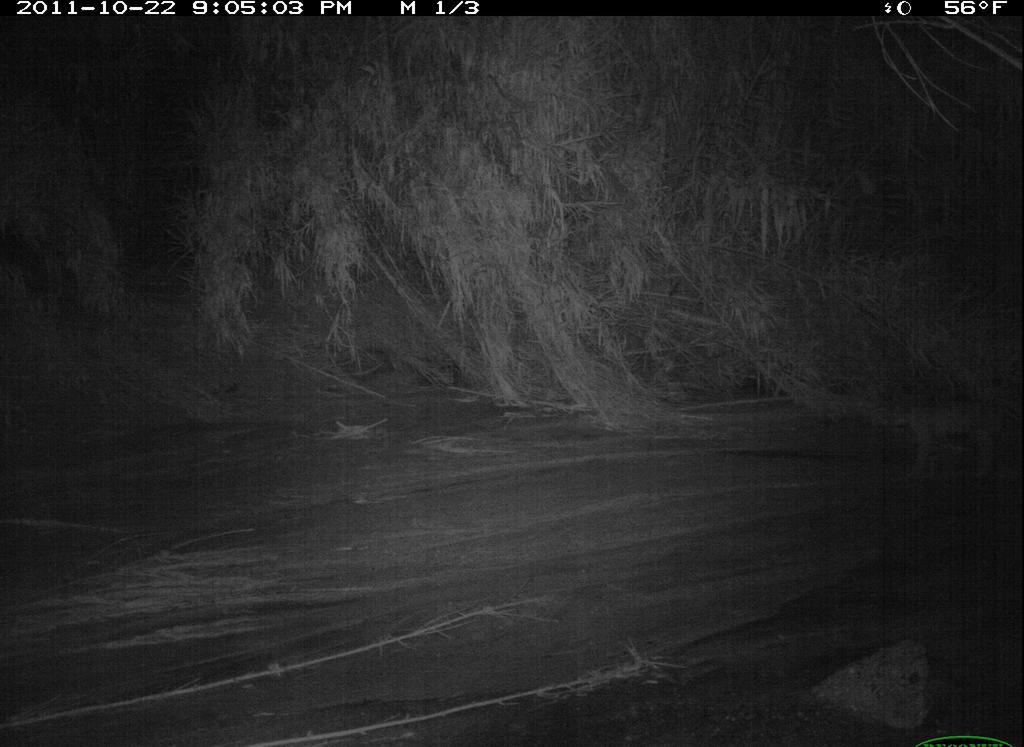bobcat: (865, 383, 1016, 487)
